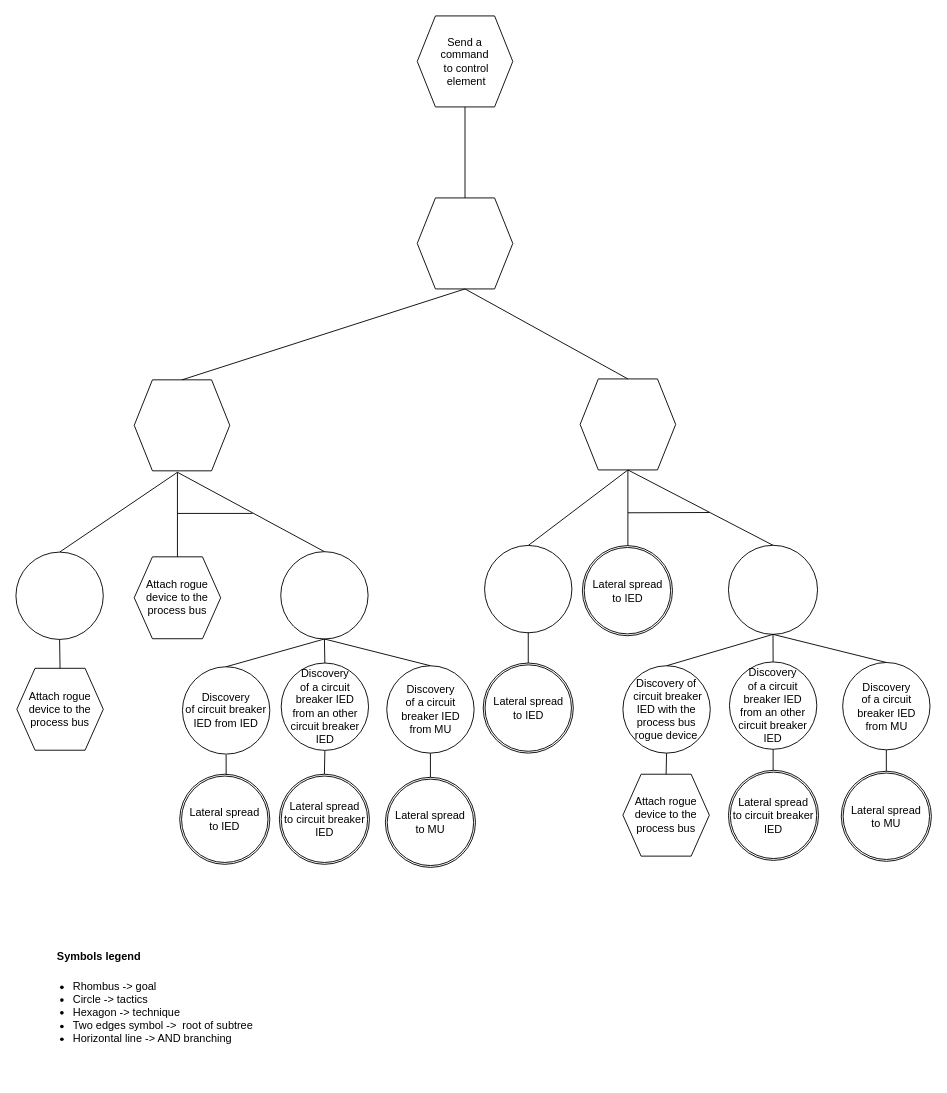
Some shapes in this 947 by 1093 pixel diagram are drawn without their labels. Each missing label, with the centre of its shape:
"Directly send a command to circuit breaker IED" goes at point (464, 243).
"Directly send a command to circuit breaker IED from IED" goes at point (627, 424).
"Directly send a command to circuit breaker IED with process bus rogue device" goes at point (181, 425).
"Discovery of a circuit breaker IED from IED" goes at point (528, 589).
"Discovery of a circuit breaker IED not from IED" goes at point (773, 589).
"Discovery of a circuit breaker IED without rogue device" goes at point (324, 595).
"Discovery of IED with the process bus rogue device" goes at point (59, 595).
